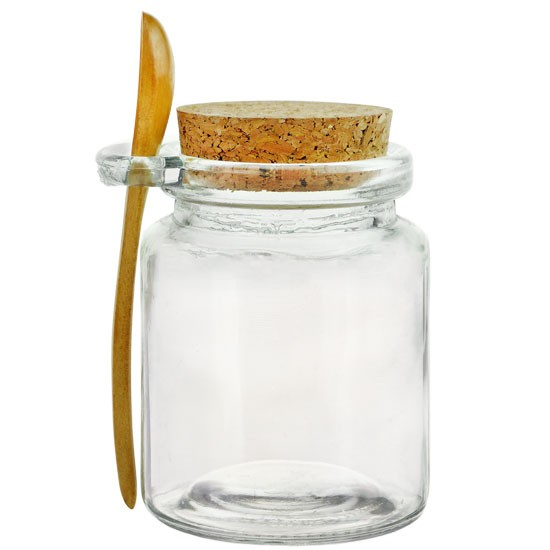Rec_Glass: (138, 117, 436, 538)
